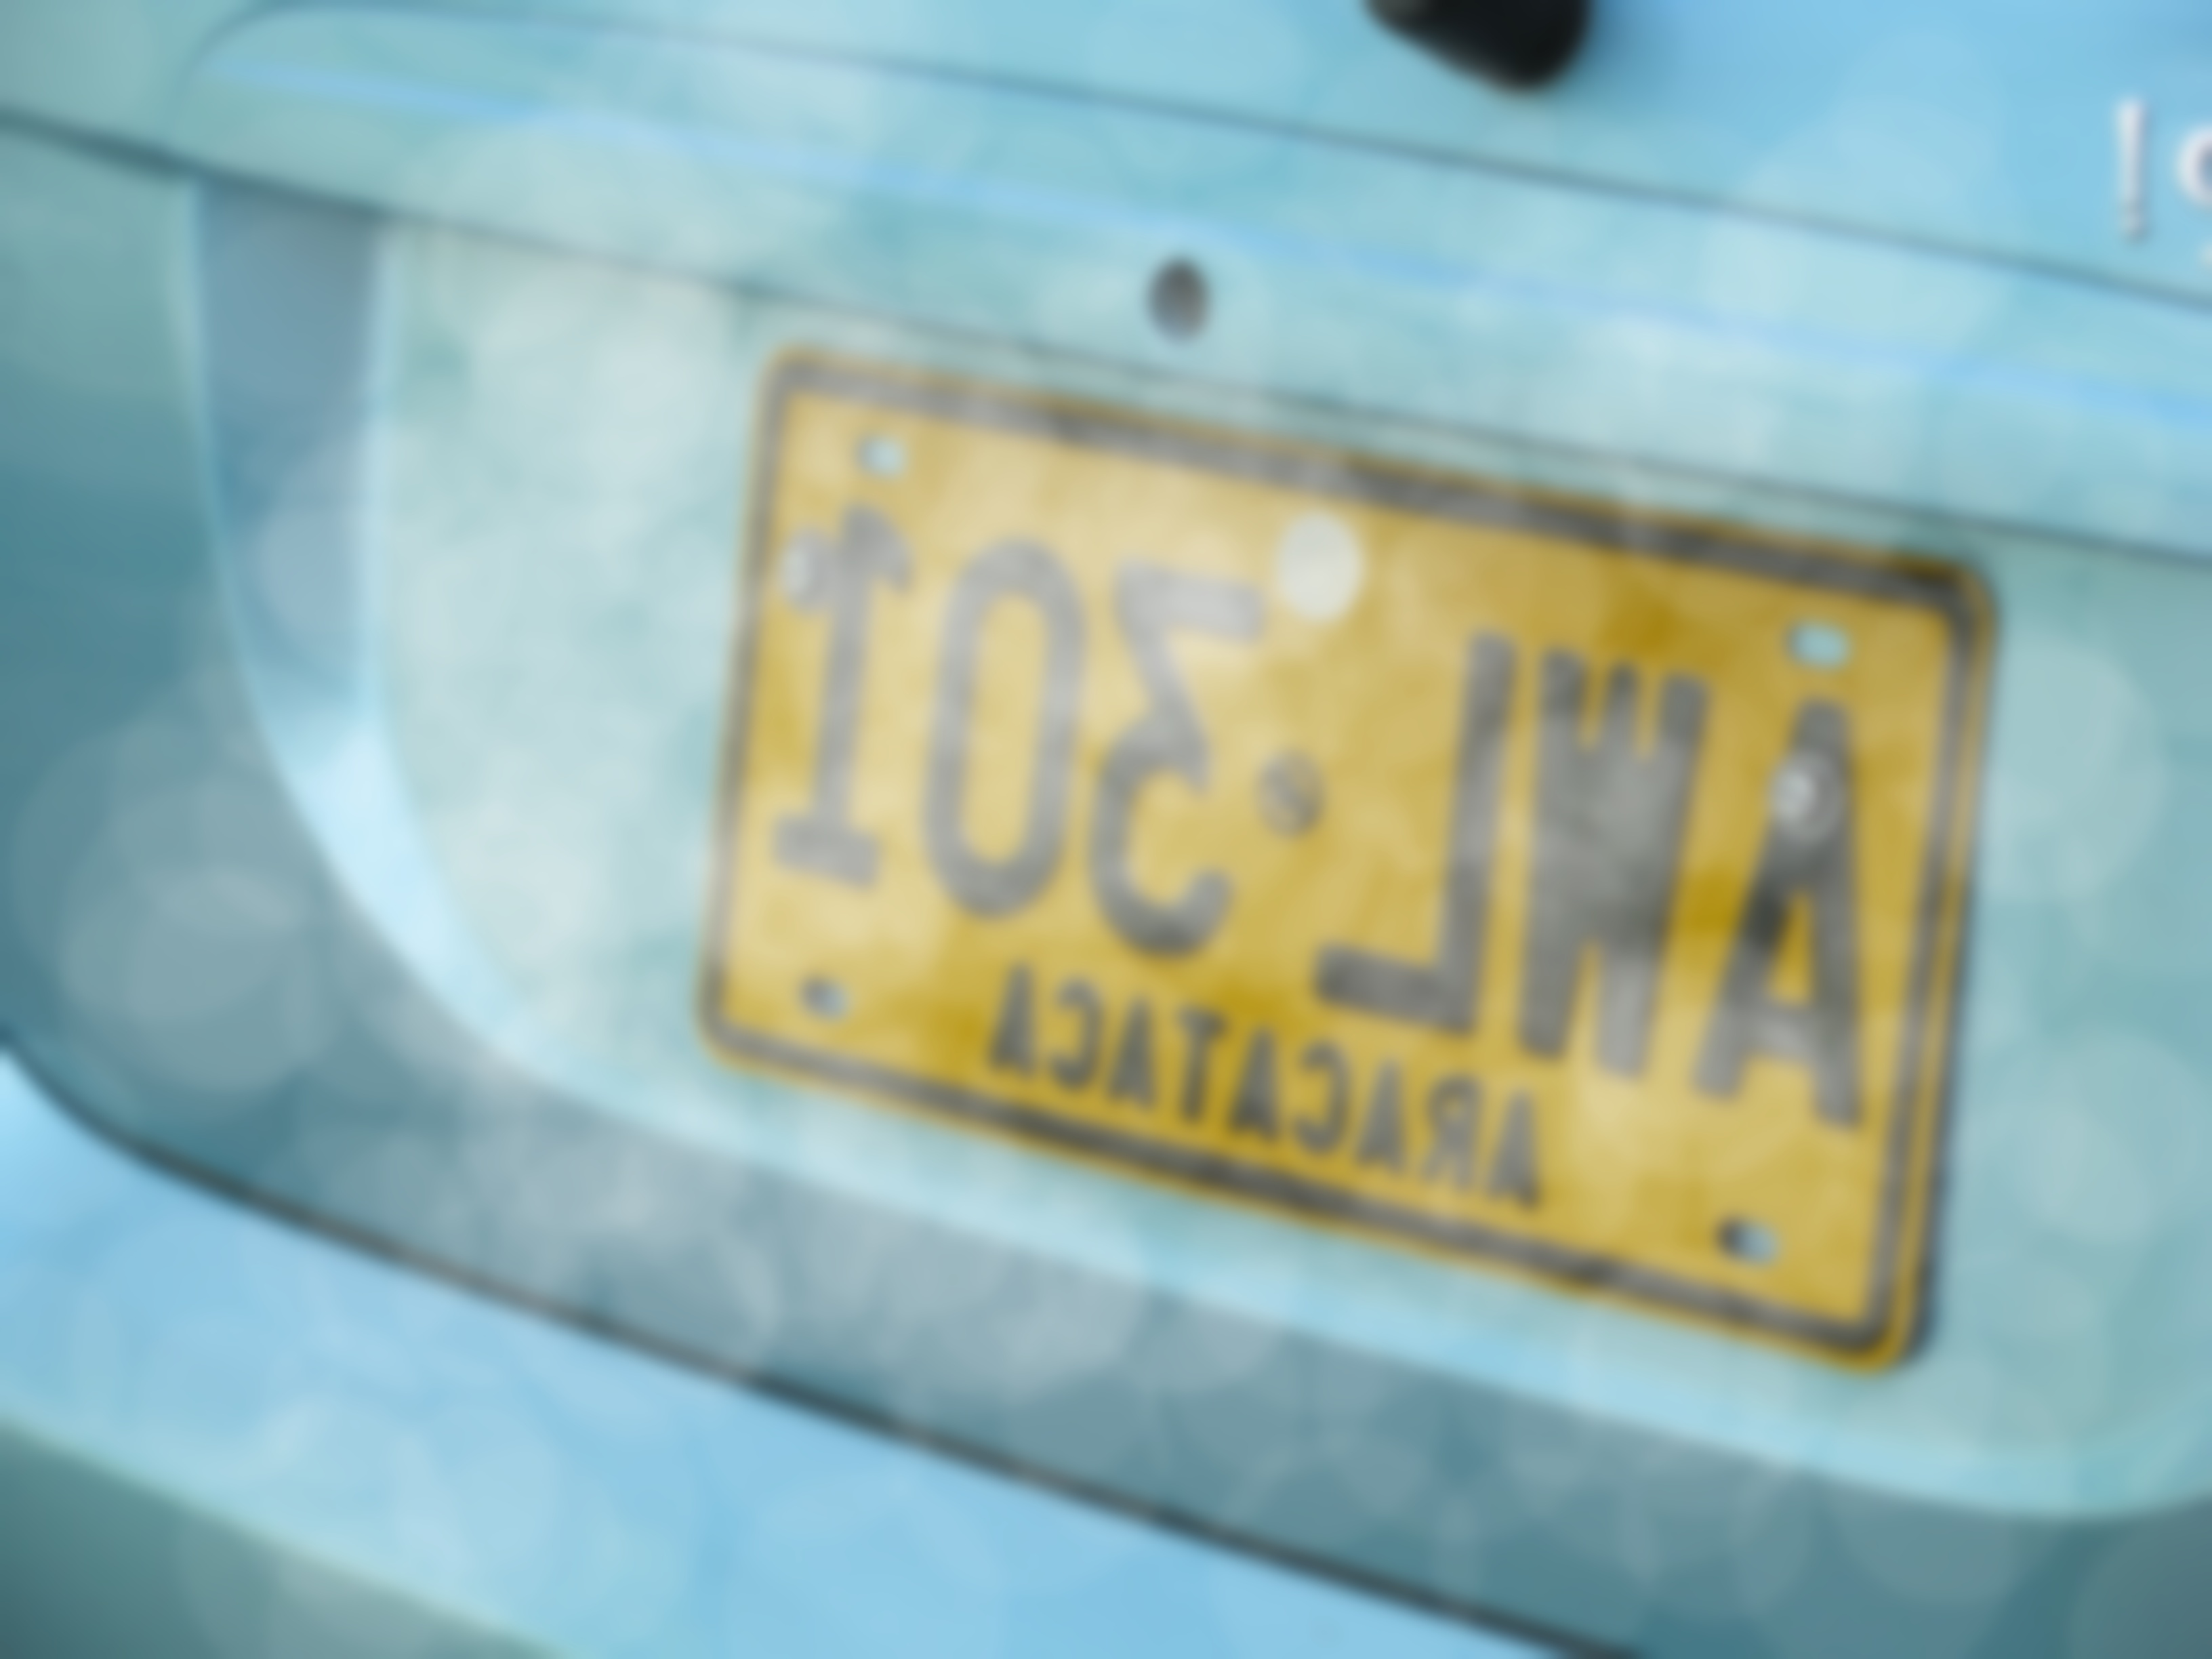placas: (678, 328, 2003, 1375)
